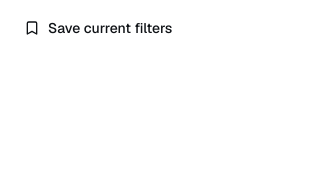
it: SavedFiltersPanel › saves a filter preset by name and lists it
Click the button "Save current filters" at [98, 28], box [12,12,184,44]
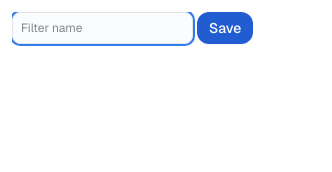
Type "Cursor only" into the field with placeholder "Filter name" at [102, 28], box [12,12,193,44]
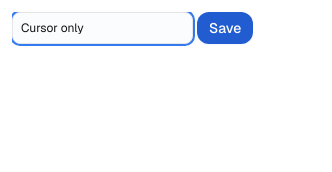
Click the button "Save" at [225, 28], box [197,12,253,44]
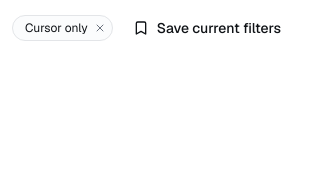
Expected: the button "Cursor only" is shown, [25,20,88,36]
